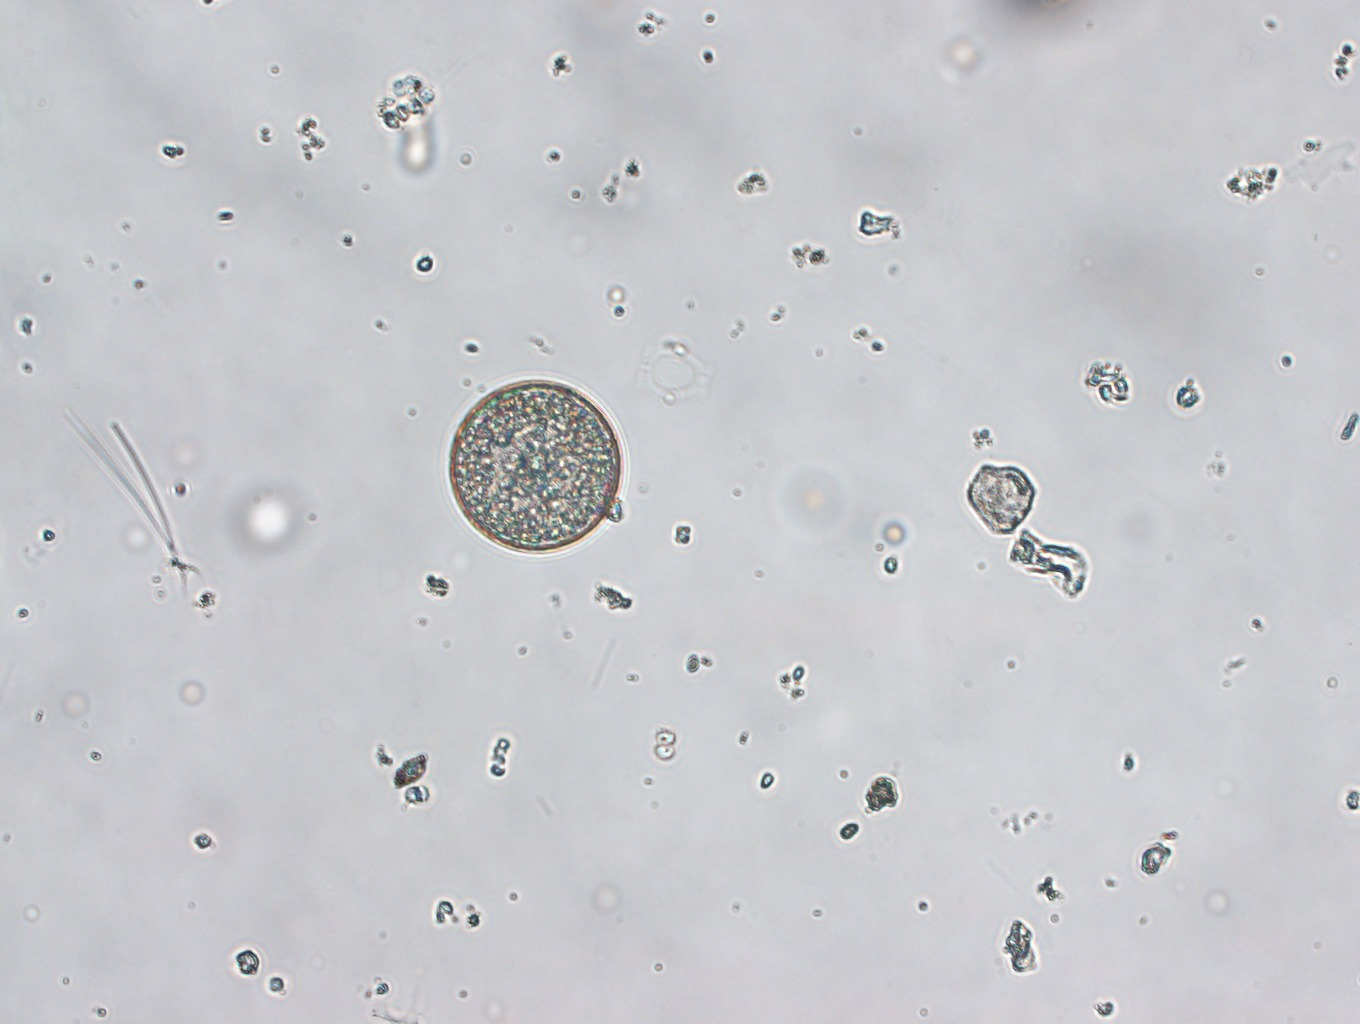coscinodiscus: (448, 376, 622, 553)
